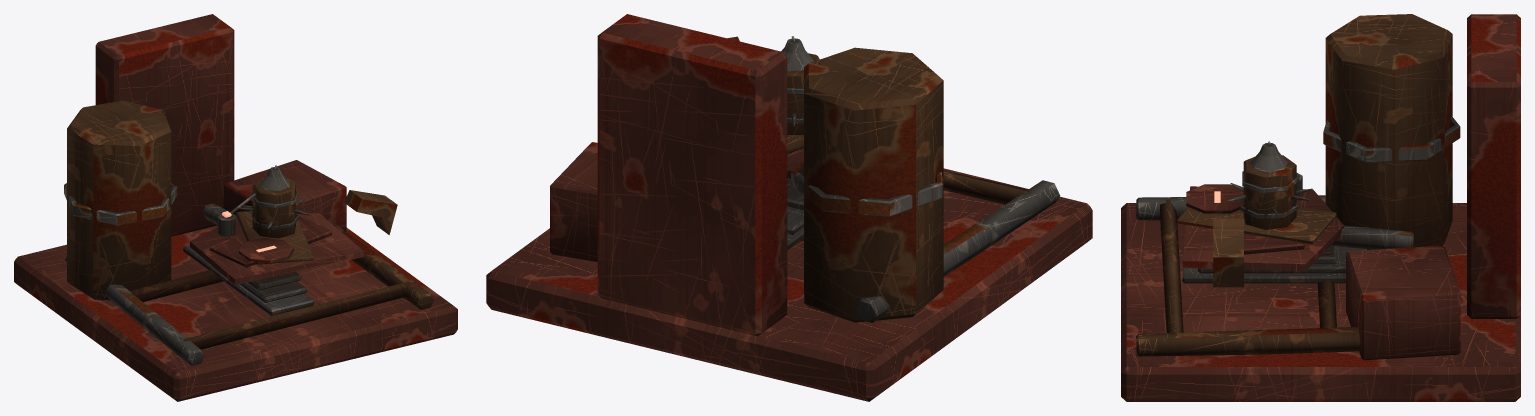
Rendered from R4X_ExplosiveTrapDeployer_LOD1.glb.
3 views of the same model, side by side, from view 1: azimuth 30°, elevation 25°; view 2: azimuth 150°, elevation 25°; view 3: azimuth 270°, elevation 25° (orthographic). The views are drawn at different scales.
Parts seen in each view (by area): view 1: R4X_ExplosiveTrapDeployer_LOD1; view 2: R4X_ExplosiveTrapDeployer_LOD1; view 3: R4X_ExplosiveTrapDeployer_LOD1.
Boxes of the visible parts, x1,y1,x2,y2 form: R4X_ExplosiveTrapDeployer_LOD1: [14, 14, 457, 401]; R4X_ExplosiveTrapDeployer_LOD1: [486, 14, 1092, 401]; R4X_ExplosiveTrapDeployer_LOD1: [1121, 14, 1520, 401].
Size of the model in its own units: 0.52 by 0.39 by 0.52.
5 materials, 4 textured.
